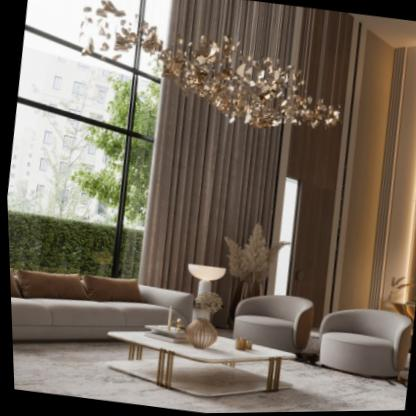Curtains: (130, 0, 308, 305)
Wall Panel: (320, 17, 416, 320)
Window: (0, 0, 196, 291)
